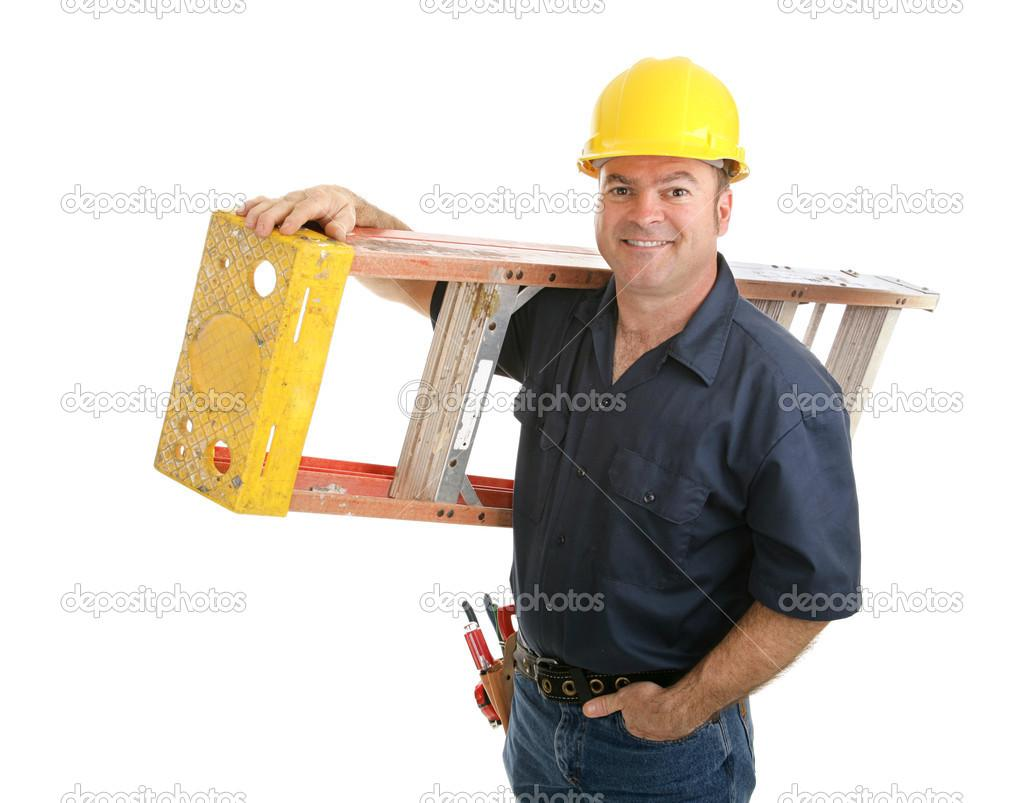face: (602, 132, 712, 278)
